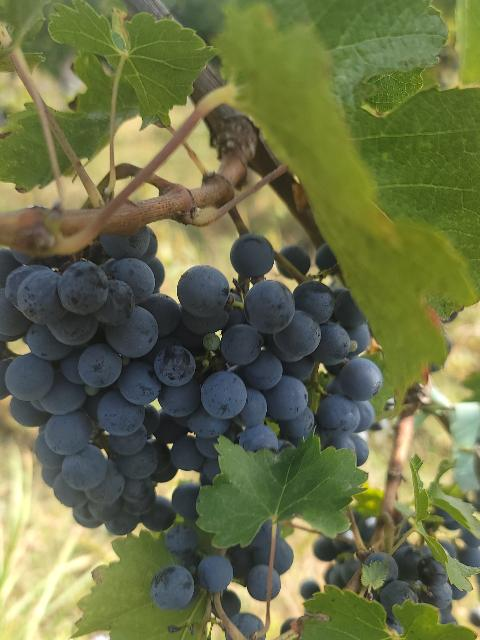grapes: (122, 235, 381, 610), (0, 229, 162, 535)
